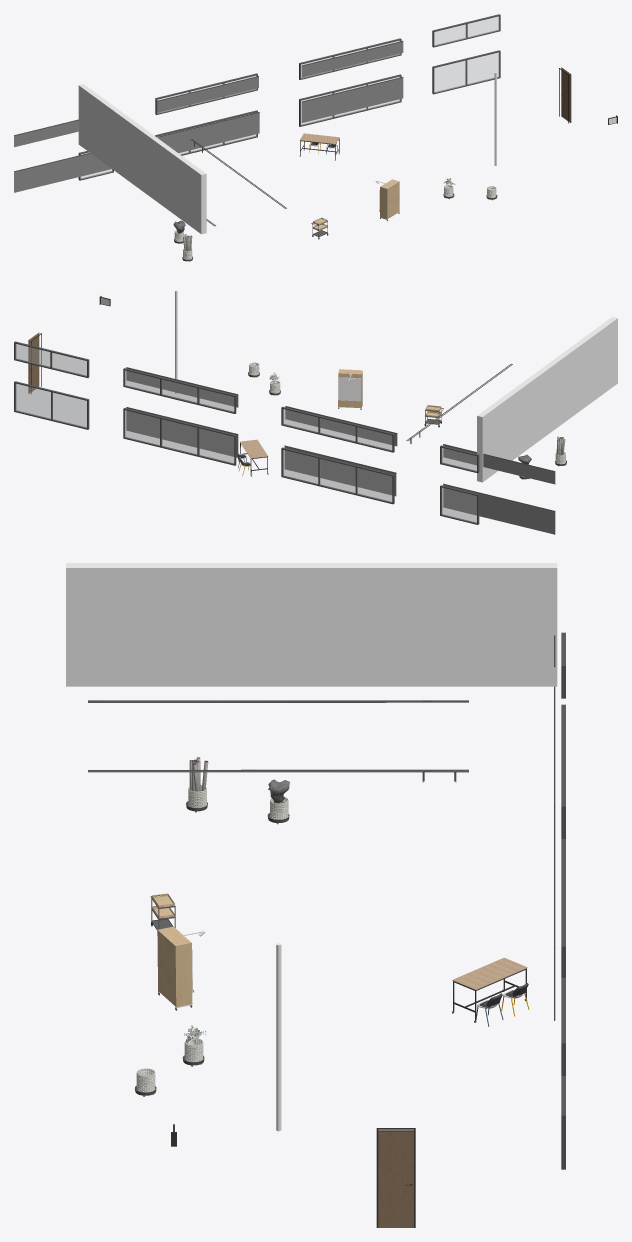
The model's file is large_hub_2.glb.
3 views of the same model, one above another, from view 1: azimuth 30°, elevation 25°; view 2: azimuth 150°, elevation 25°; view 3: azimuth 270°, elevation 25° (orthographic). The views are drawn at different scales.
Parts seen in each view (by area): view 1: Mesh5270 Group312 Model, Mesh7436 Group639 blind_1_4 blind2_1_4 Model, Mesh6660 Group532 blind_1_3 blind2_1_3 Model, Mesh6531 Group480 blind_1_1 blind2_1_1 Model, Mesh6662 Group534 blind4 blind2_4 Model, Mesh6522 Group477 blind1 blind2_1 Model, Mesh6176 System_Panel___Glazed_4245398__3D___cdiogoV84U4_2 G, Mesh6177 System_Panel___Glazed_4245403__3D___cdiogoV84U4_1 G, Mesh6542 Group485 blind2 blind2_2 Model, Mesh5255 Group307 Etch_2_1 Group189 Model, Mesh6548 G_1_DOOR___SINGLE_WITH_FRAME____Rapt____Rating___Fr, Mesh6178 System_Panel___Glazed_4246335__3D___cdiogoV84U4_4 G (+1 smaller); view 2: Mesh5270 Group312 Model, Mesh6531 Group480 blind_1_1 blind2_1_1 Model, Mesh6660 Group532 blind_1_3 blind2_1_3 Model, Mesh7436 Group639 blind_1_4 blind2_1_4 Model, Mesh6542 Group485 blind2 blind2_2 Model, Mesh6522 Group477 blind1 blind2_1 Model, Mesh6662 Group534 blind4 blind2_4 Model, Mesh1753 System_Panel___Glazed_4244857__3D___cdiogoV84U4_1 G, Mesh1755 System_Panel___Glazed_4245399__3D___cdiogoV84U4_1 G, Mesh1754 System_Panel___Glazed_4245398__3D___cdiogoV84U4_1 G, Mesh6175 System_Panel___Glazed_4244855__3D___cdiogoV84U4_1 G, Mesh6176 System_Panel___Glazed_4245398__3D___cdiogoV84U4_2 G (+17 smaller); view 3: Mesh5270 Group312 Model, Mesh6548 G_1_DOOR___SINGLE_WITH_FRAME____Rapt____Rating___Fr, Mesh5255 Group307 Etch_2_1 Group189 Model, Mesh5017 Base_High0_1 skp5DDB1 Group273 Group189 Model, Mesh1311 Group184 Model.
Boxes of the visible parts, x1,y1,x2,y2 form: Mesh5270 Group312 Model: (78,84,206,234); Mesh7436 Group639 blind_1_4 blind2_1_4 Model: (301,77,403,122); Mesh6660 Group532 blind_1_3 blind2_1_3 Model: (158,112,259,153); Mesh6531 Group480 blind_1_1 blind2_1_1 Model: (14,153,111,192); Mesh6662 Group534 blind4 blind2_4 Model: (301,41,403,77); Mesh6522 Group477 blind1 blind2_1 Model: (157,77,258,112); Mesh6176 System_Panel___Glazed_4245398__3D___cdiogoV84U4_2 G: (467,52,499,84); Mesh6177 System_Panel___Glazed_4245403__3D___cdiogoV84U4_1 G: (434,60,466,92); Mesh6542 Group485 blind2 blind2_2 Model: (14,120,79,147); Mesh5255 Group307 Etch_2_1 Group189 Model: (379,179,399,219); Mesh6548 G_1_DOOR___SINGLE_WITH_FRAME____Rapt____Rating___Fr: (561,68,570,122); Mesh6178 System_Panel___Glazed_4246335__3D___cdiogoV84U4_4 G: (434,24,466,45); Mesh5270 Group312 Model: (477,317,617,482); Mesh6531 Group480 blind_1_1 blind2_1_1 Model: (443,484,555,534); Mesh6660 Group532 blind_1_3 blind2_1_3 Model: (284,446,396,496); Mesh7436 Group639 blind_1_4 blind2_1_4 Model: (126,407,238,457); Mesh6542 Group485 blind2 blind2_2 Model: (443,445,555,484); Mesh6522 Group477 blind1 blind2_1 Model: (285,407,397,446); Mesh6662 Group534 blind4 blind2_4 Model: (126,368,238,407); Mesh1753 System_Panel___Glazed_4244857__3D___cdiogoV84U4_1 G: (199,428,234,463); Mesh1755 System_Panel___Glazed_4245399__3D___cdiogoV84U4_1 G: (162,419,197,454); Mesh1754 System_Panel___Glazed_4245398__3D___cdiogoV84U4_1 G: (125,410,159,445); Mesh6175 System_Panel___Glazed_4244855__3D___cdiogoV84U4_1 G: (442,488,476,522); Mesh6176 System_Panel___Glazed_4245398__3D___cdiogoV84U4_2 G: (16,383,50,418); Mesh5270 Group312 Model: (66,563,557,686); Mesh6548 G_1_DOOR___SINGLE_WITH_FRAME____Rapt____Rating___Fr: (378,1131,413,1227); Mesh5255 Group307 Etch_2_1 Group189 Model: (157,926,194,1007); Mesh5017 Base_High0_1 skp5DDB1 Group273 Group189 Model: (452,957,527,990); Mesh1311 Group184 Model: (276,943,281,1131).
Size of the model in its own units: 1192 by 253 by 502.
38 materials, 17 textured.
